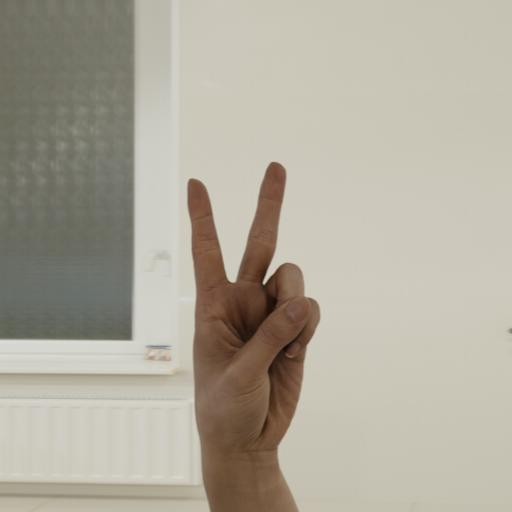V: (162, 152, 332, 512)
